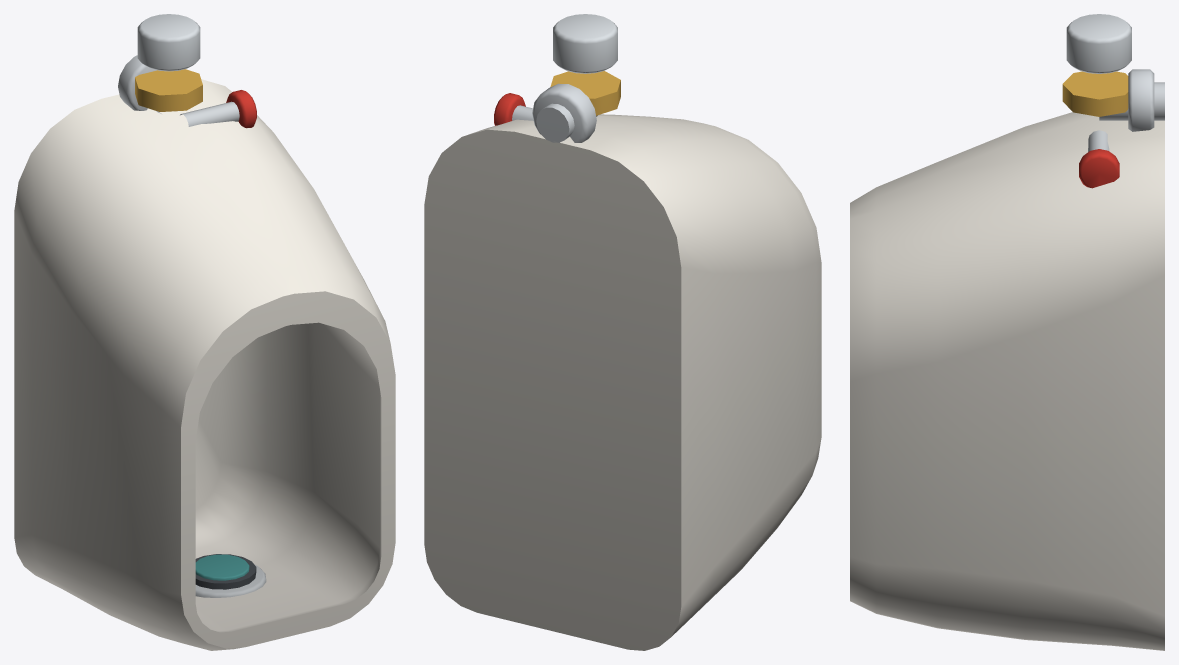
Rendered from Urinal_01.glb.
3 renders of one model, left to right at view 1: azimuth 30°, elevation 25°; view 2: azimuth 150°, elevation 25°; view 3: azimuth 270°, elevation 25°, orthographic. The views are drawn at different scales.
Visible parts, largest first — view 1: SM_Urinal_01; view 2: SM_Urinal_01; view 3: SM_Urinal_01.
Part boxes in pixels (x1=…): SM_Urinal_01: x1=14, y1=14, x2=395, y2=650; SM_Urinal_01: x1=424, y1=14, x2=821, y2=650; SM_Urinal_01: x1=850, y1=14, x2=1164, y2=650.
Size of the model in its own units: 0.36 by 0.735 by 0.36.
1 material, 1 textured.
